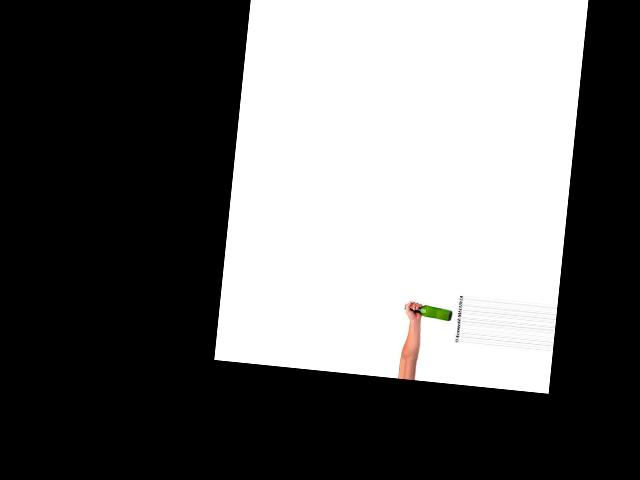beer: (404, 303, 452, 321)
